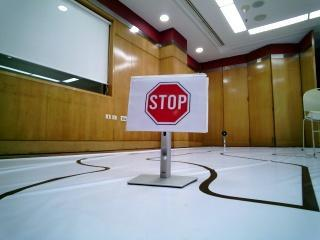stop: (128, 78, 204, 128)
